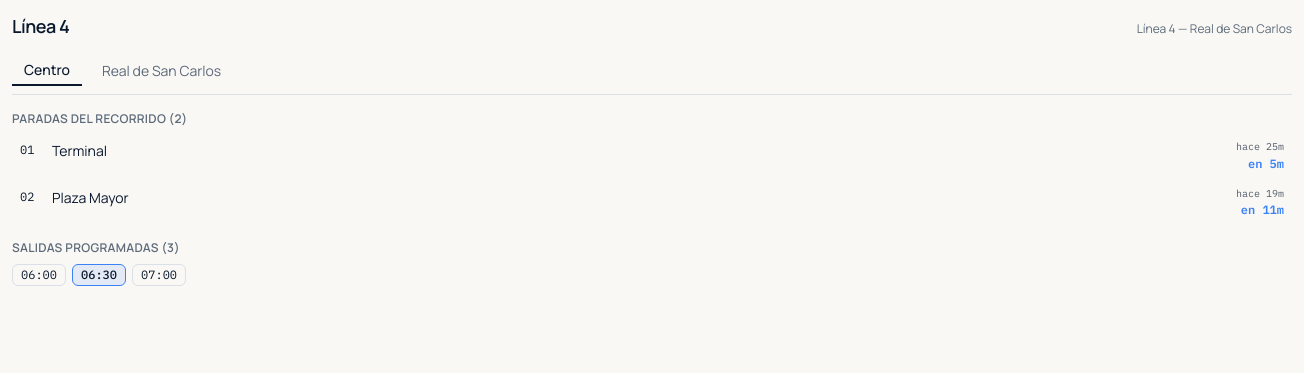
Test: LineScheduleCard › R-03 tap on a stop expands an inline panel showing the upcoming arrivals (next + future, no past)
What coordinates should you click on to do the following:
click the text "Terminal"
I would click on:
 (80, 150)
Its box is [52, 141, 107, 160].
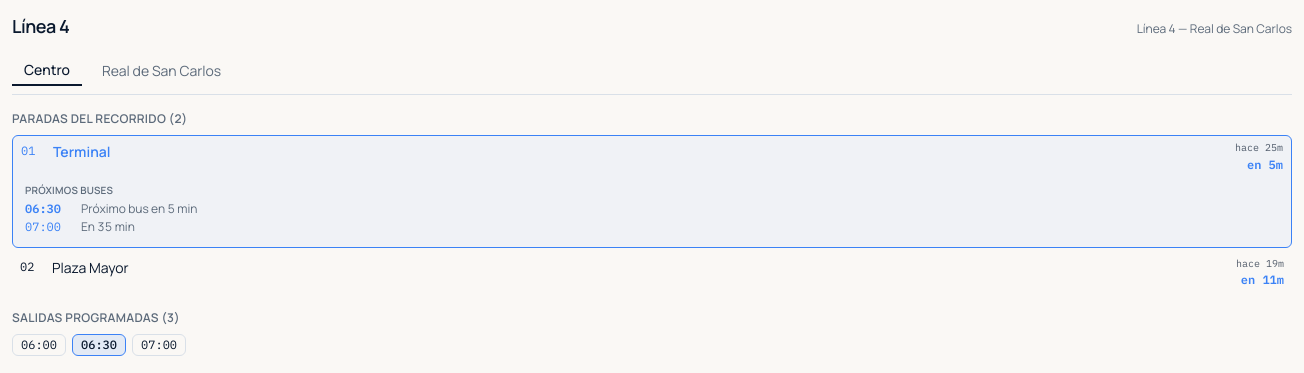
Expected: the element with test id "line-stop-detail-sol-antigua:1" is shown, [25, 182, 197, 235]
Expected: the list item with test id "line-stop-arrival-sol-antigua:1-next" is shown, [25, 200, 197, 217]
Expected: the list item with test id "line-stop-arrival-sol-antigua:1-future" is shown, [25, 218, 135, 235]
